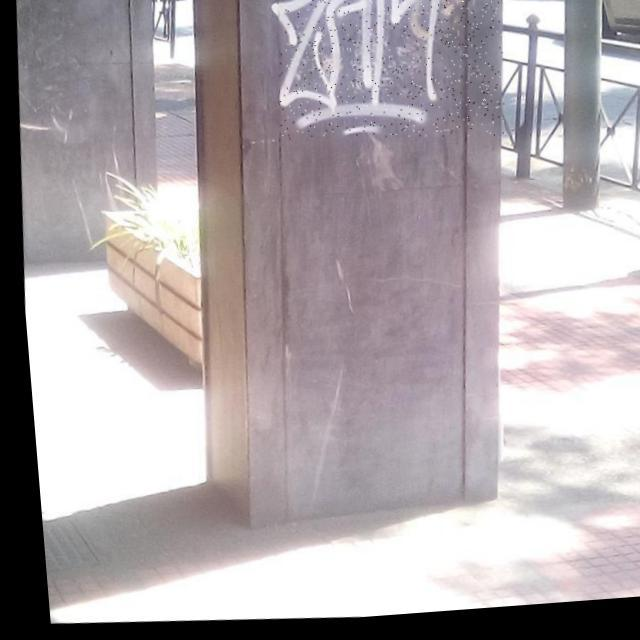-: (268, 0, 510, 155)
